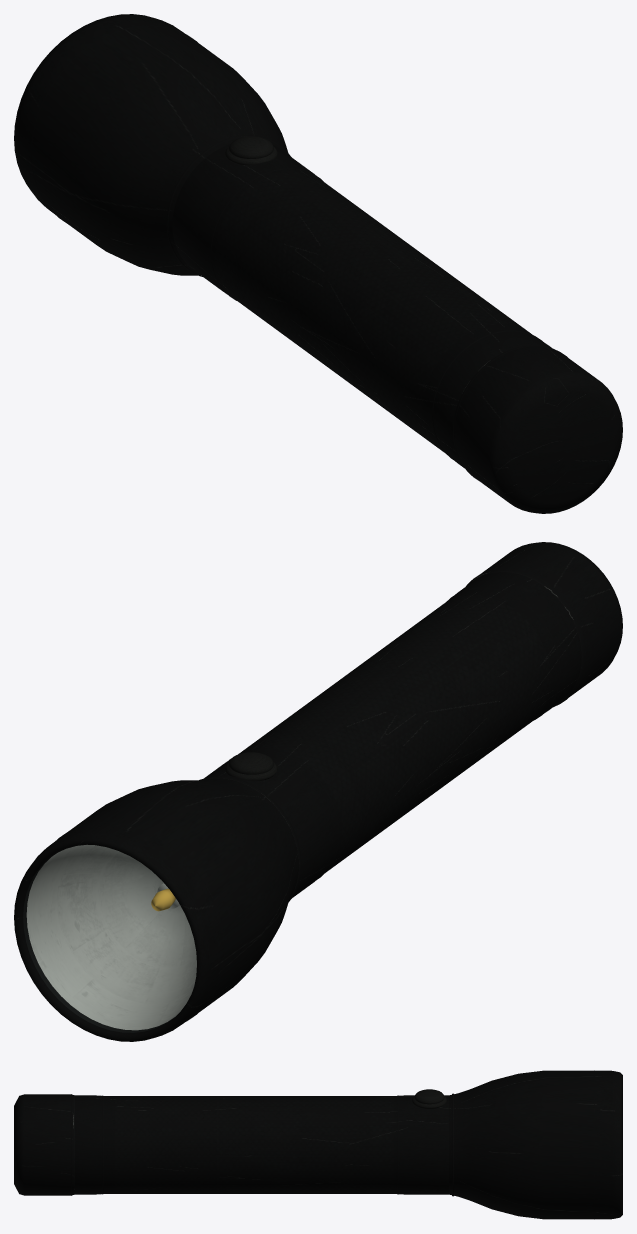
File: flashlight.glb
3 views of the same model, one above another, from view 1: azimuth 30°, elevation 25°; view 2: azimuth 150°, elevation 25°; view 3: azimuth 270°, elevation 25° (orthographic). The views are drawn at different scales.
Visible parts, largest first — view 1: Flashlight opaque; view 2: Flashlight opaque; view 3: Flashlight opaque.
Part boxes in pixels (<box>): Flashlight opaque: <box>14,14,622,513</box>; Flashlight opaque: <box>14,542,622,1041</box>; Flashlight opaque: <box>14,1070,622,1219</box>.
Bounding box in the file's own units: 0.0572 × 0.0572 × 0.233.
2 materials, 1 textured.
